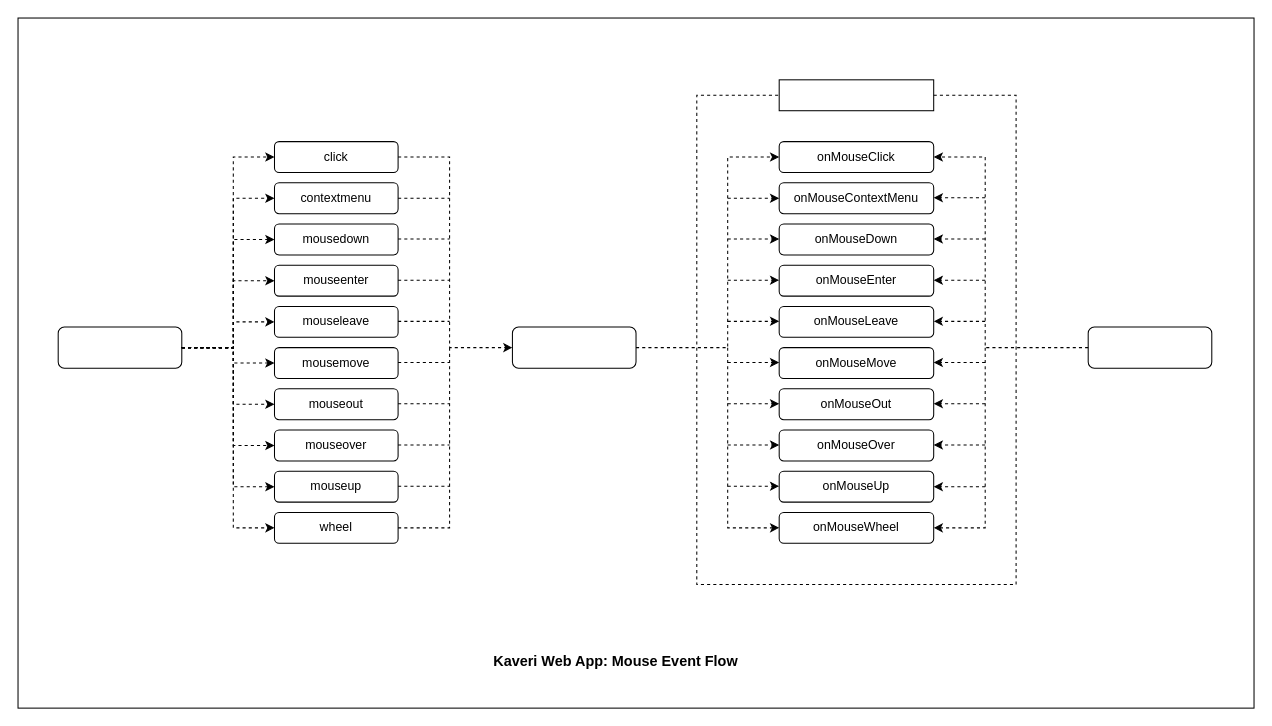
The diagram is 1272 pixels wide and 726 high, and some of its shapes have lost their labels. The shapes that lost their labels are listed below. From the top down, each one's box as (x1, y1, x2, y2) in pixels, then its label:
(778, 79, 934, 111): inputFactory
(57, 326, 182, 368): MouseEvents
(511, 326, 636, 368): dispatch
(1087, 326, 1212, 368): Consumer Components
